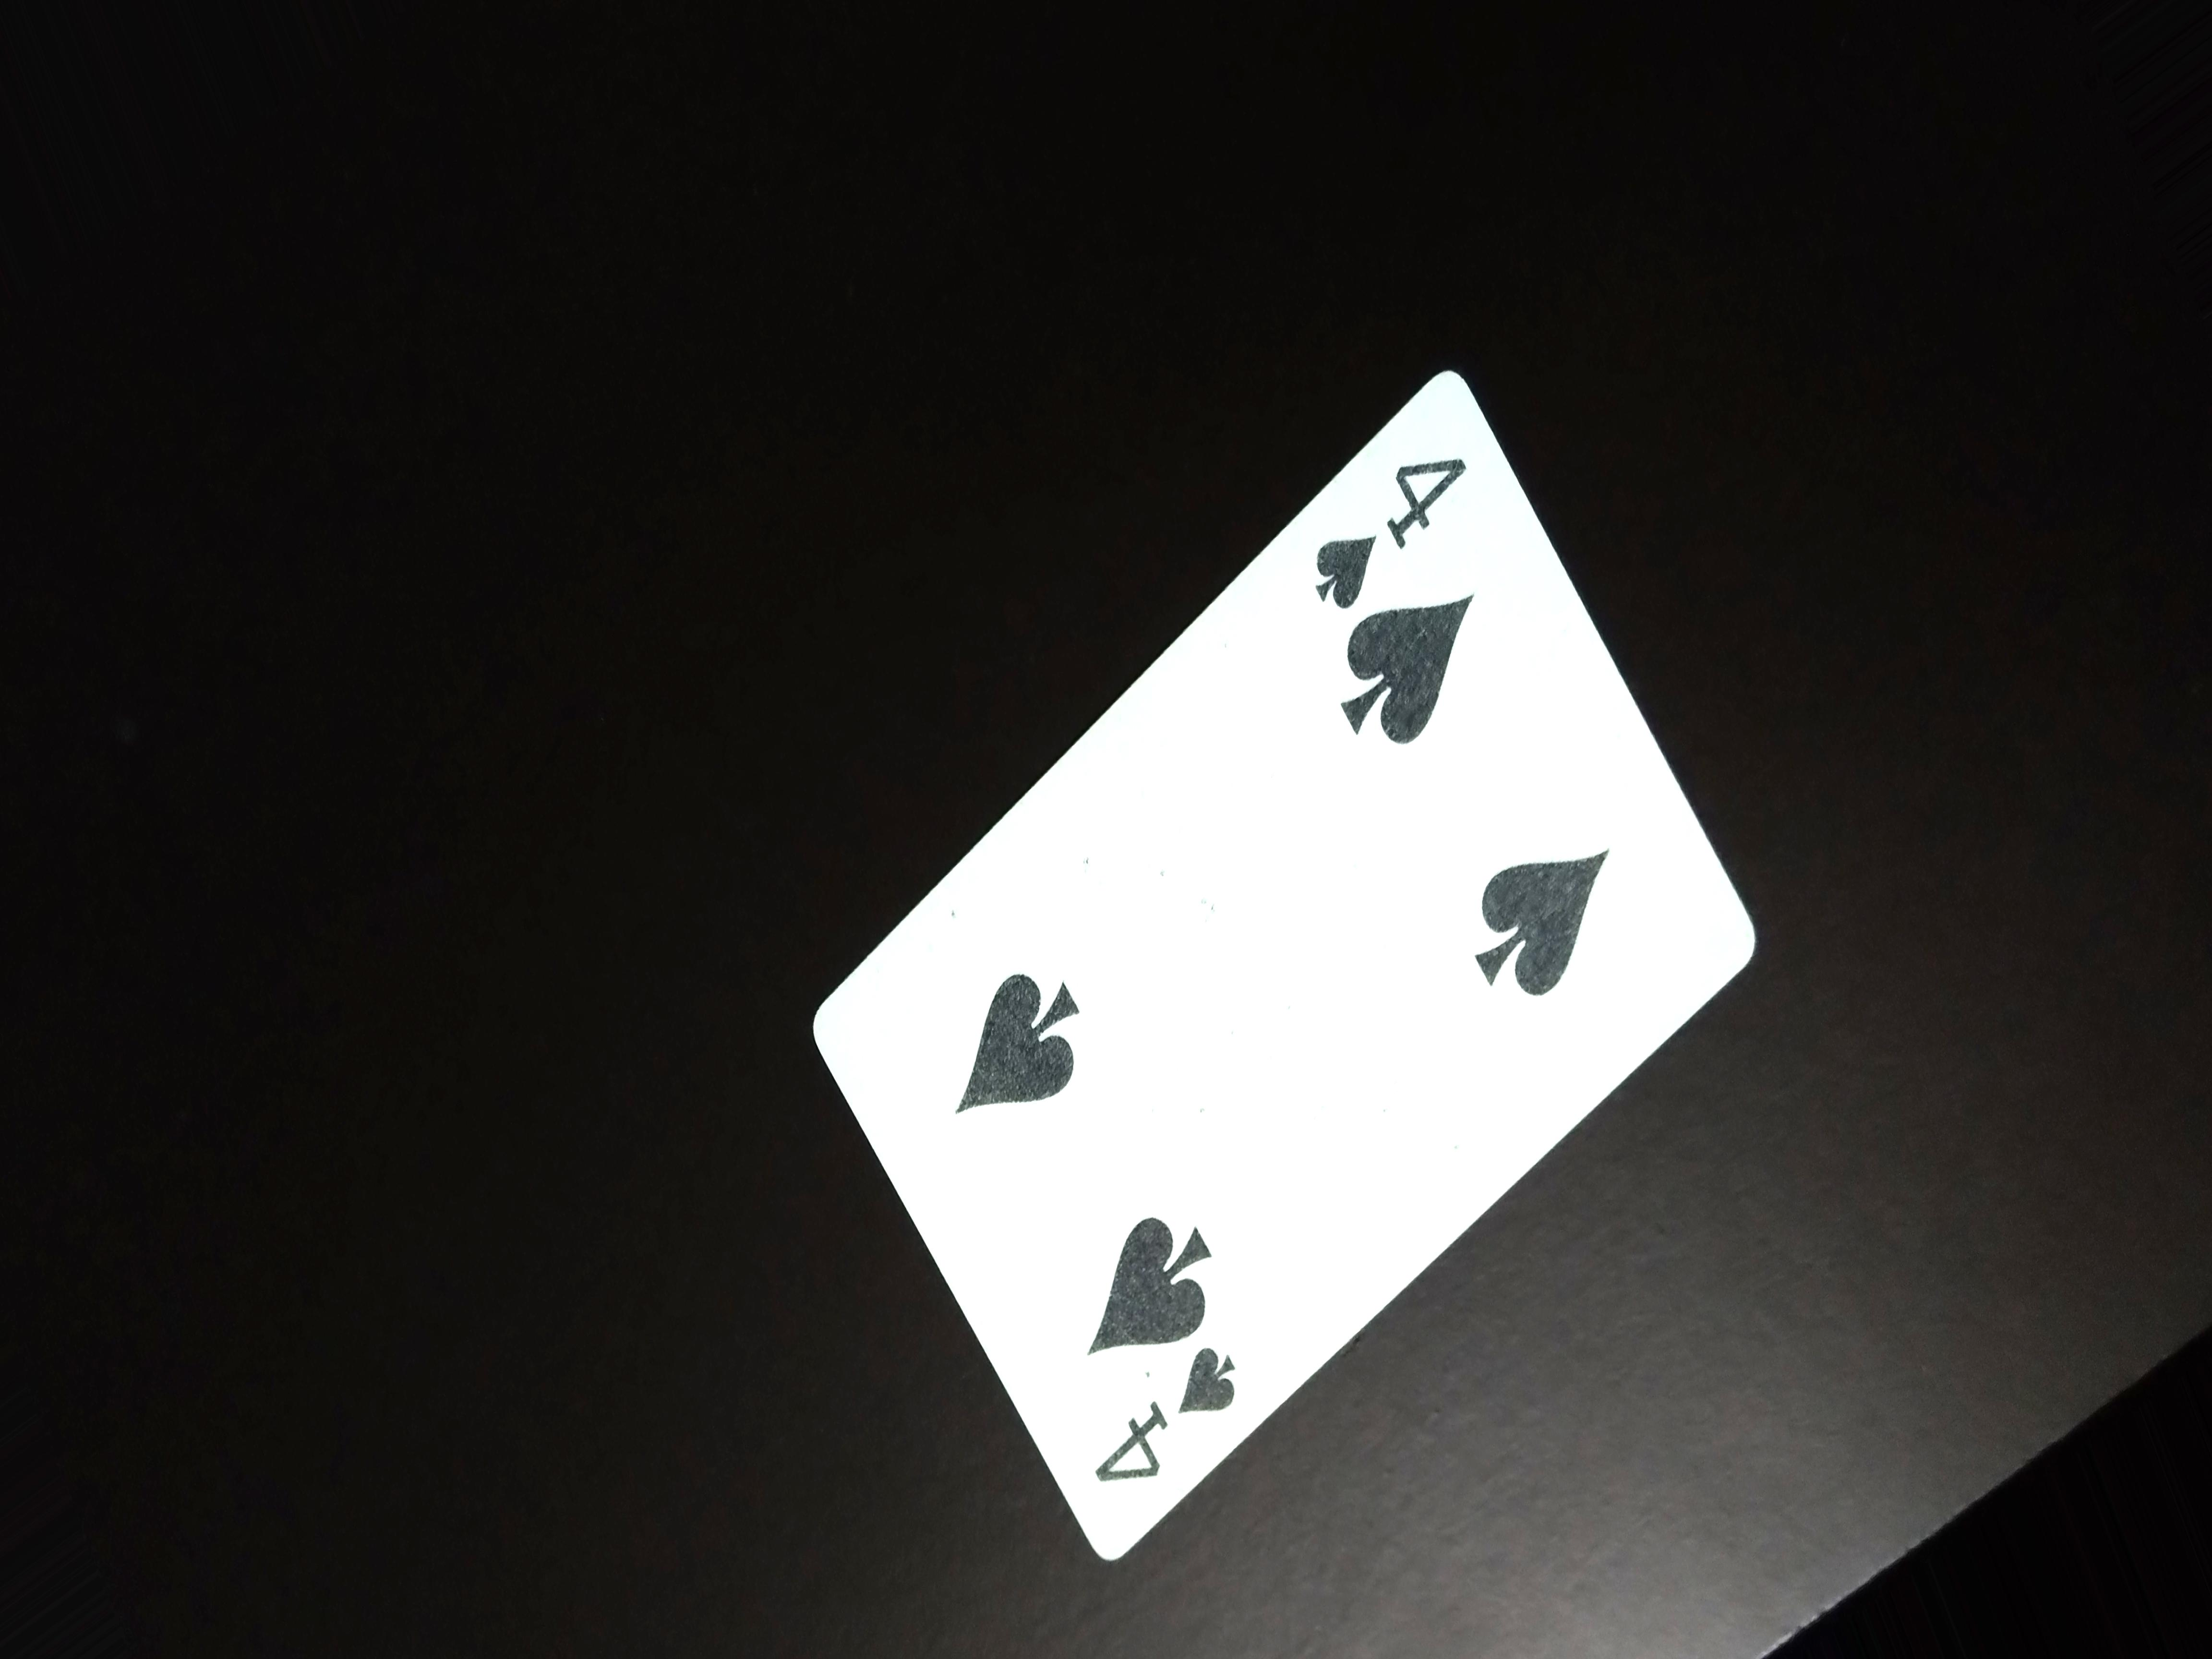4S: (1308, 415, 1467, 629)
